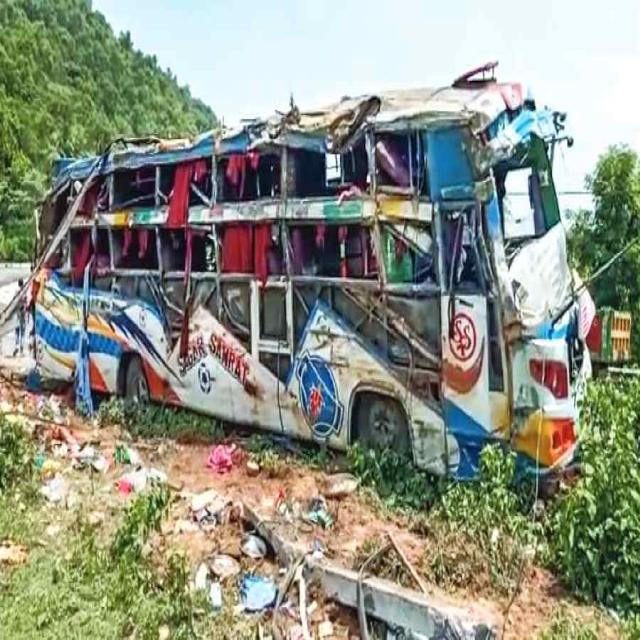accident: (30, 64, 590, 478)
